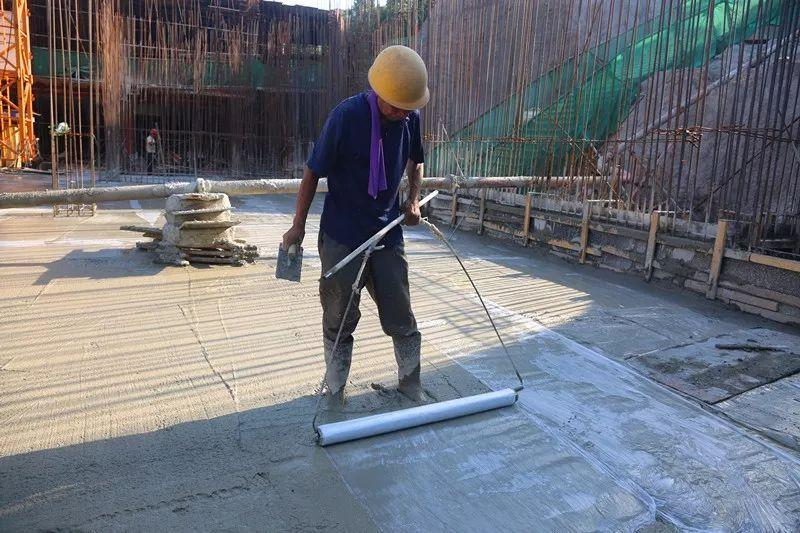helmet: (369, 43, 443, 112), (151, 127, 160, 139)
